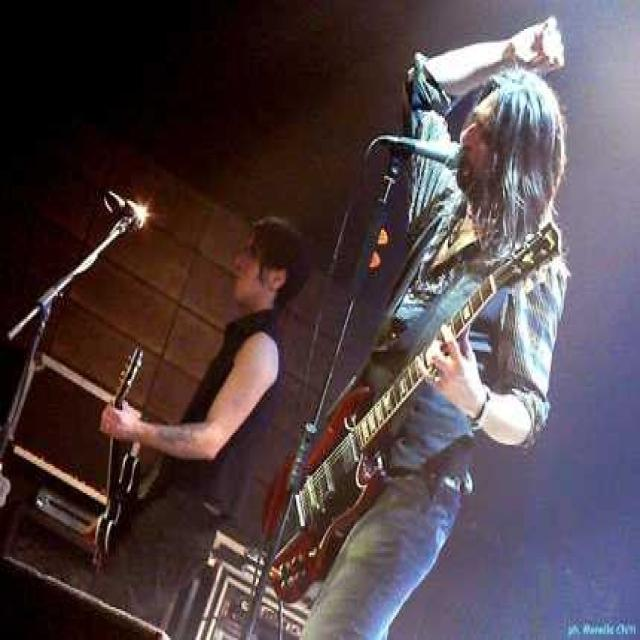microphone: (374, 135, 455, 168), (105, 190, 149, 227)
